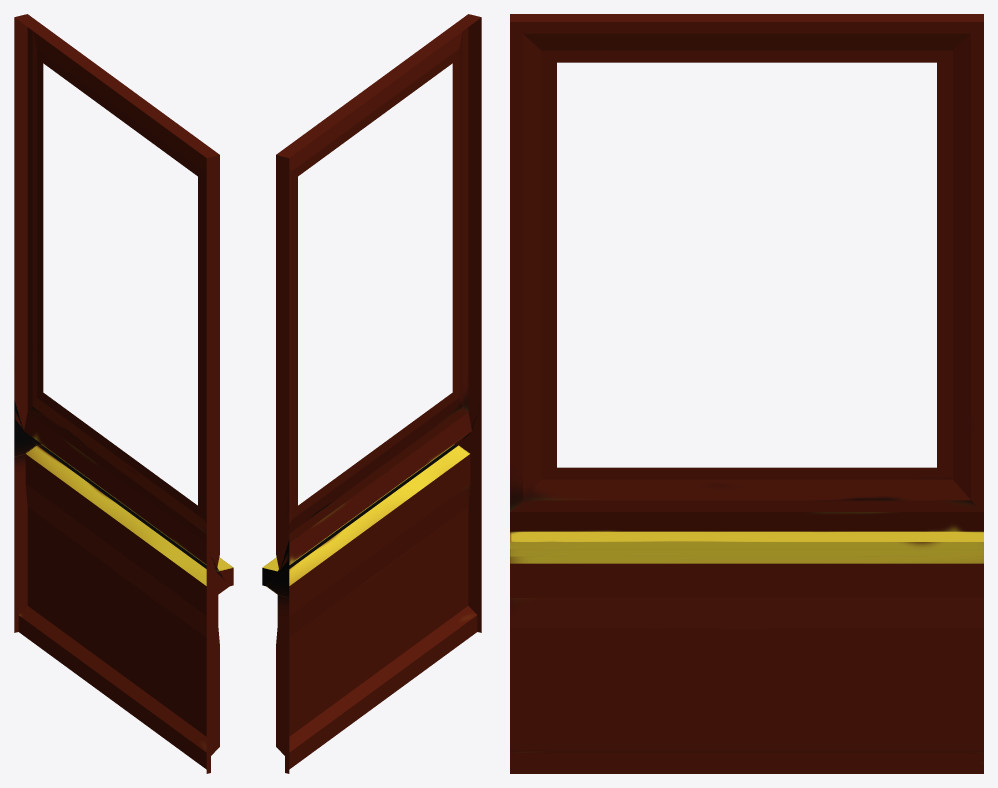
3 views of the same model, side by side, from view 1: azimuth 30°, elevation 25°; view 2: azimuth 150°, elevation 25°; view 3: azimuth 270°, elevation 25° (orthographic). The views are drawn at different scales.
Visible parts, largest first — view 1: Plane.013; view 2: Plane.013; view 3: Plane.013.
Boxes of the visible parts, x1=… form: Plane.013: x1=14, y1=14, x2=233, y2=773; Plane.013: x1=262, y1=14, x2=481, y2=773; Plane.013: x1=510, y1=14, x2=983, y2=773.
Bounding box in the file's own units: 60.84 × 1323 × 750.
Materials: 1 (1 with a texture image).
